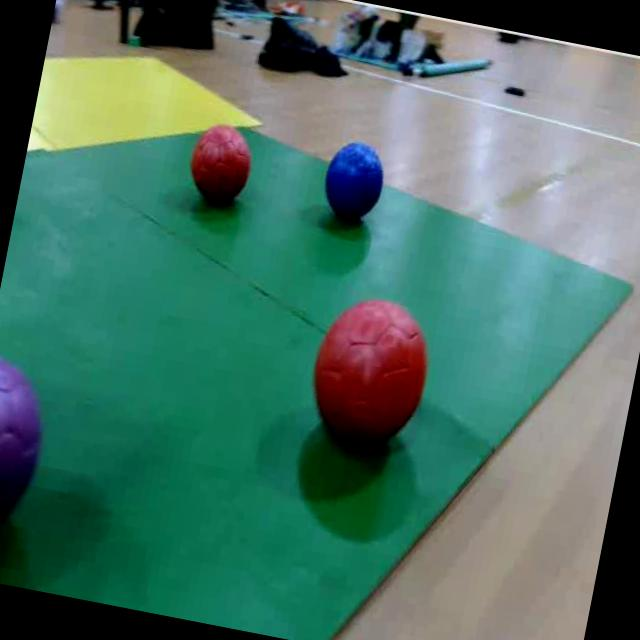blue_ball: (316, 138, 391, 234)
purple_ball: (0, 348, 55, 555)
red_ball: (298, 292, 441, 458), (180, 115, 260, 212)
